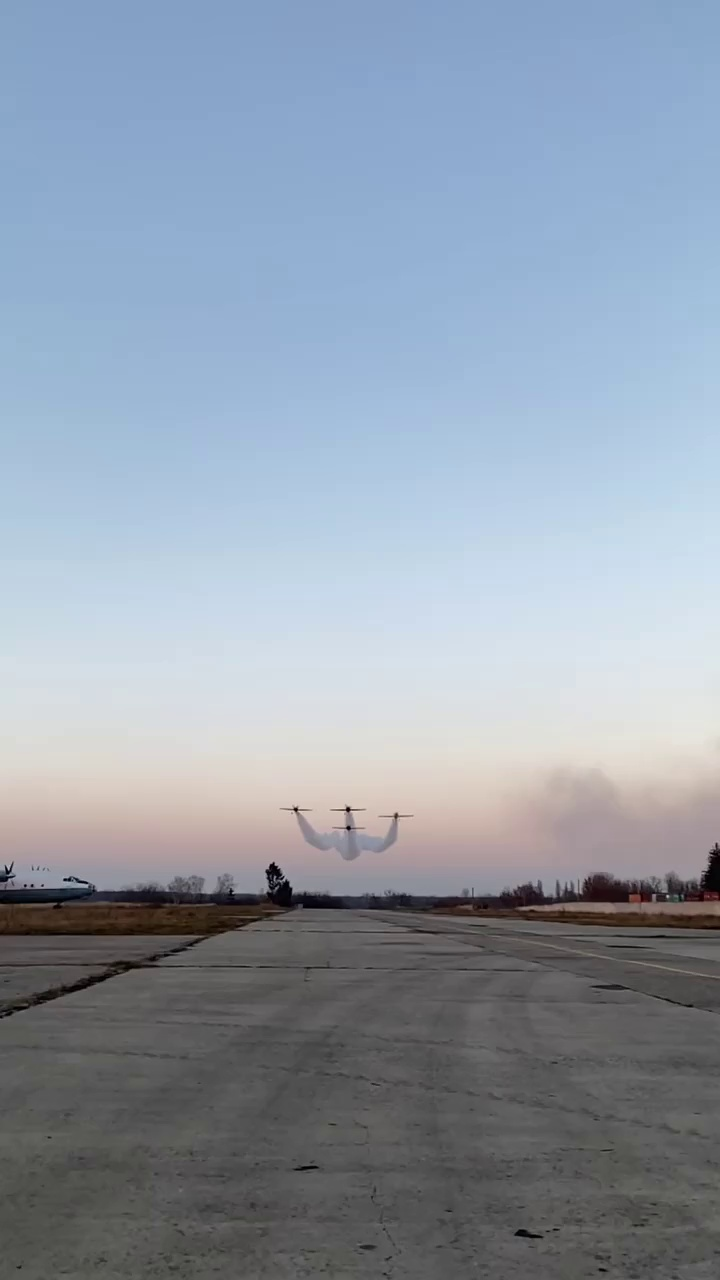plane: (1, 861, 93, 909), (377, 808, 414, 820), (330, 804, 367, 813), (279, 805, 314, 814), (331, 824, 365, 833)
